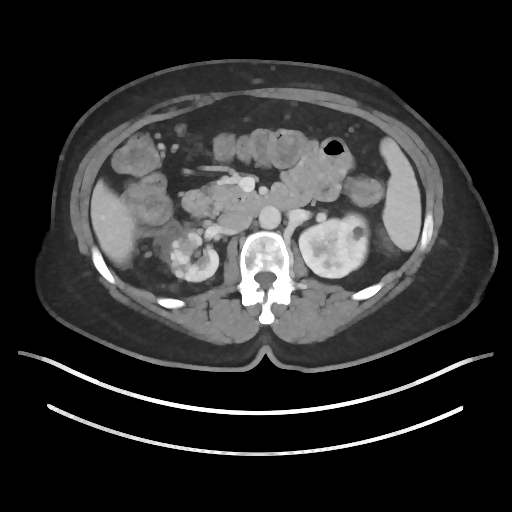Lesion: (349, 223, 368, 242)
